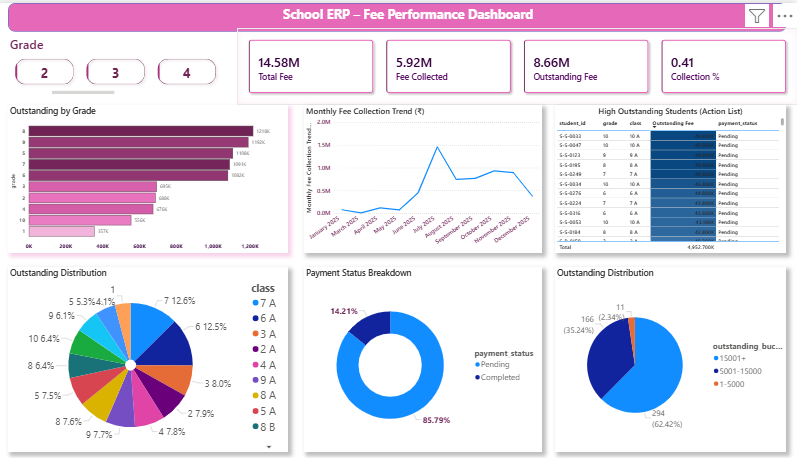

Layout of this report page (visuals, bound fields, positions):
{"tool":"powerbi","page":{"name":"Page 1","canvas":[2000,1150],"ordinal":0},"visuals":[{"type":"shape","box":[24,0,1946,72],"z":0},{"type":"cardVisual","fields":{"Data":["fee_transactions.Total Fee","fee_transactions.Fee Collected","fee_transactions.Outstanding Fee","fee_transactions.Collection %"]},"box":[597.5,62.5,1402.5,192.5],"z":1000},{"type":"clusteredBarChart","title":"Outstanding by Grade","fields":{"Category":["students.grade"],"Y":["fee_transactions.Outstanding Fee"]},"box":[24.3,255.7,698.6,370],"z":2000},{"type":"pieChart","title":"Outstanding Distribution","fields":{"Y":["fee_transactions.Defaulters Count"],"Category":["fee_transactions.outstanding_bucket"]},"box":[1392.5,660,577.5,462.5],"z":3000},{"type":"donutChart","title":"Outstanding Distribution","fields":{"Category":["students.class","fee_transactions.payment_status","fee_transactions.outstanding_bucket"],"Series":["students.grade"],"Y":["fee_transactions.Outstanding Fee"]},"box":[25,660,700,462.5],"z":4000},{"type":"donutChart","title":"Payment Status Breakdown","fields":{"Category":["fee_transactions.payment_status"],"Y":["CountNonNull(students.student_id)"]},"box":[765,660,595,462.5],"z":5000},{"type":"lineChart","title":"Monthly Fee Collection Trend (₹)","fields":{"Category":["fee_transactions.MonthYear"],"Y":["fee_transactions.Fee Collected (Valid Month)"]},"box":[765,255,595,370],"z":6000},{"type":"tableEx","title":"High Outstanding Students (Action List)","fields":{"Values":["students.student_id","students.grade","students.class","fee_transactions.Outstanding Fee","fee_transactions.payment_status"]},"box":[1392.5,255,577.5,370],"z":7000},{"type":"textbox","box":[707.5,0,652.5,72.5],"z":8000},{"type":"advancedSlicerVisual","title":"Grade","fields":{"Values":["students.grade"]},"box":[25,82.5,537.5,152.5],"z":9000}]}

Visuals, with their boxes in screenshot pixels (x1, y1, x2, y2), scaled from the page's 2000x1150 canvas onto the 797x458 screenshot:
shape: <region>10, 0, 785, 29</region>
cardVisual - fee_transactions.Total Fee x fee_transactions.Fee Collected: <region>238, 25, 796, 102</region>
"Outstanding by Grade" clusteredBarChart: <region>10, 102, 288, 249</region>
"Outstanding Distribution" pieChart: <region>555, 263, 785, 447</region>
"Outstanding Distribution" donutChart: <region>10, 263, 289, 447</region>
"Payment Status Breakdown" donutChart: <region>305, 263, 542, 447</region>
"Monthly Fee Collection Trend (₹)" lineChart: <region>305, 102, 542, 249</region>
"High Outstanding Students (Action List)" tableEx: <region>555, 102, 785, 249</region>
textbox: <region>282, 0, 542, 29</region>
"Grade" advancedSlicerVisual: <region>10, 33, 224, 94</region>
